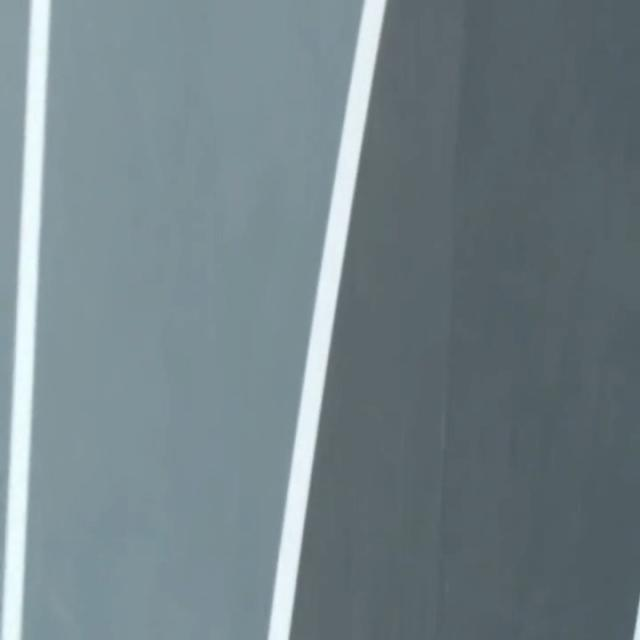center: (633, 598, 639, 639)
left: (268, 0, 386, 639)
